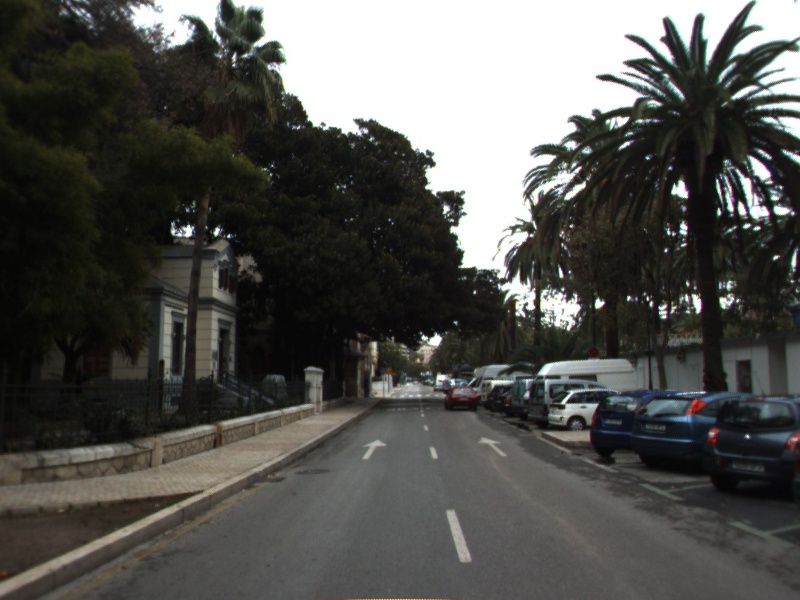STRAIGHT: (475, 434, 509, 458), (360, 438, 390, 461)
